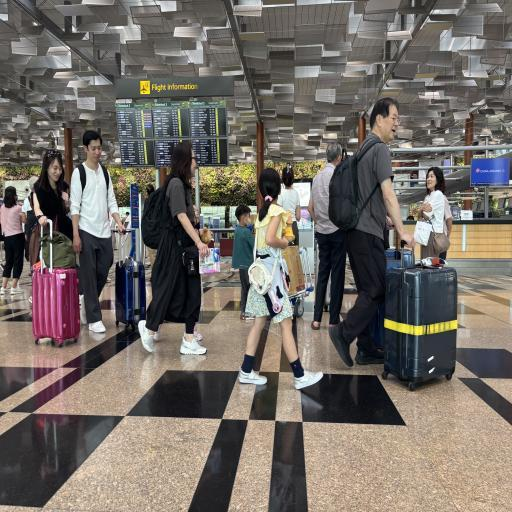person_right: (242, 158, 313, 390)
person_with_luggage_right: (324, 81, 462, 399), (72, 124, 158, 322), (36, 148, 86, 343)
